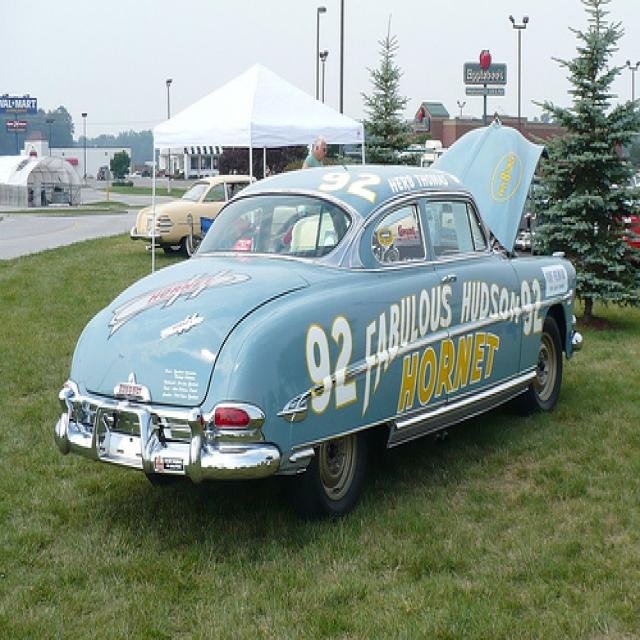light_vehicle: (46, 115, 588, 530), (134, 165, 301, 250)
